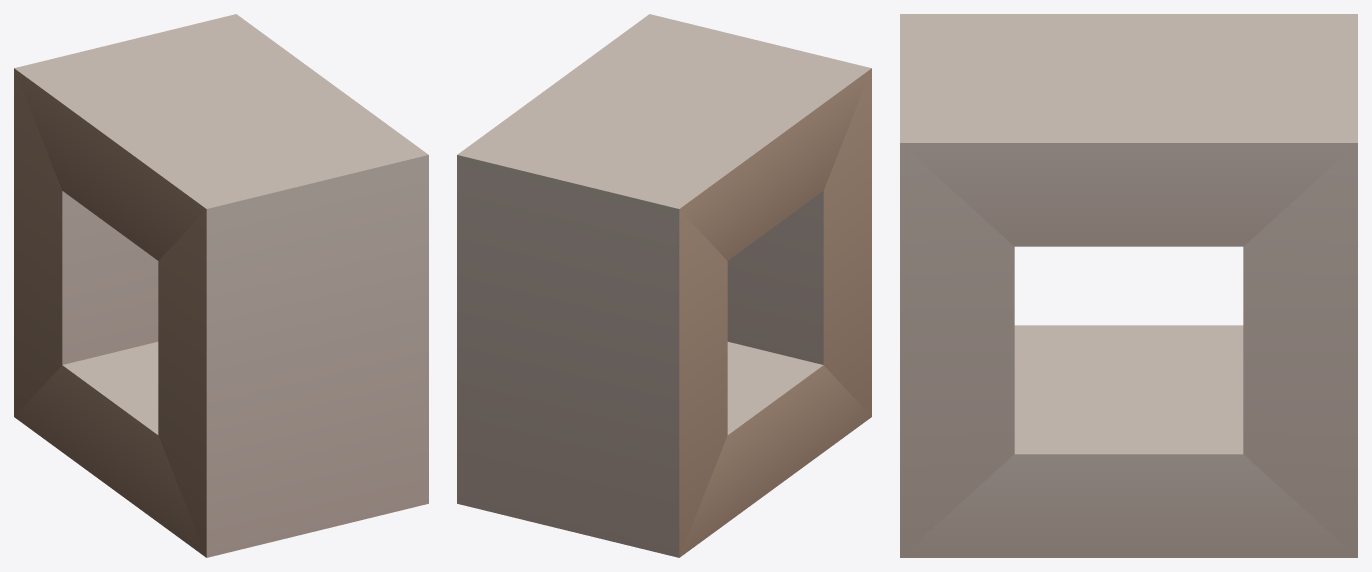
The model's file is shelf-cube-small (%wall)_0.glb.
The picture shows the model from 3 angles, left to right: view 1: azimuth 30°, elevation 25°; view 2: azimuth 150°, elevation 25°; view 3: azimuth 270°, elevation 25°; orthographic projection. The views are drawn at different scales.
Parts seen in each view (by area): view 1: shelf-cube-small (%wall); view 2: shelf-cube-small (%wall); view 3: shelf-cube-small (%wall).
Part boxes in pixels (x1,y1,x2,y2): shelf-cube-small (%wall): [14, 14, 428, 557]; shelf-cube-small (%wall): [457, 14, 871, 557]; shelf-cube-small (%wall): [900, 14, 1357, 557].
Bounding box in the file's own units: 0.2 × 0.3 × 0.3.
